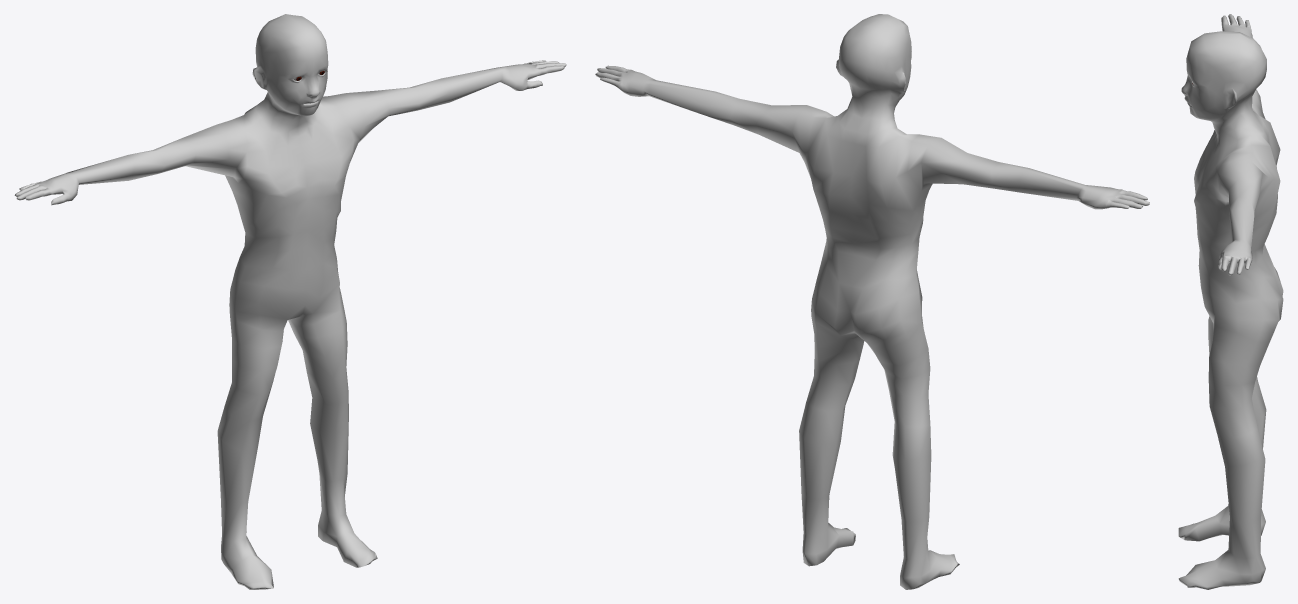
Rendered from civil_criança_SemOsso.fbx.
3 views of the same model, side by side, from view 1: azimuth 30°, elevation 25°; view 2: azimuth 150°, elevation 25°; view 3: azimuth 270°, elevation 25° (orthographic). The views are drawn at different scales.
Visible parts, largest first — view 1: male1591Mesh; view 2: male1591Mesh; view 3: male1591Mesh.
Boxes of the visible parts, <box> form: male1591Mesh: <box>14,14,566,589</box>; male1591Mesh: <box>595,14,1149,589</box>; male1591Mesh: <box>1178,14,1283,589</box>.
Size of the model in its own units: 51.29 by 48.49 by 8.77.
